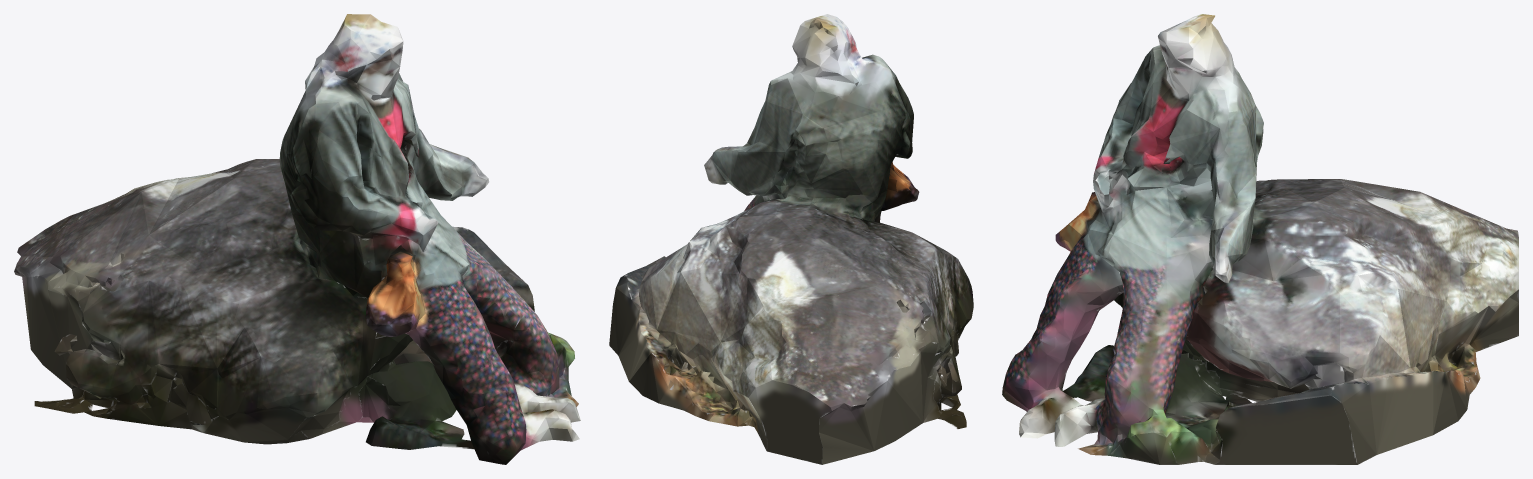
Rendered from kakashi_11b.fbx.
3 renders of one model, left to right at view 1: azimuth 30°, elevation 25°; view 2: azimuth 150°, elevation 25°; view 3: azimuth 270°, elevation 25°, orthographic. The views are drawn at different scales.
Parts seen in each view (by area): view 1: kakashi_11:Mesh; view 2: kakashi_11:Mesh; view 3: kakashi_11:Mesh.
Boxes of the visible parts, x1,y1,x2,y2 form: kakashi_11:Mesh: (14, 14, 580, 464); kakashi_11:Mesh: (609, 14, 973, 464); kakashi_11:Mesh: (1002, 14, 1518, 464).
Size of the model in its own units: 24.2 by 20.49 by 26.4.
Materials: 1 (1 with a texture image).
